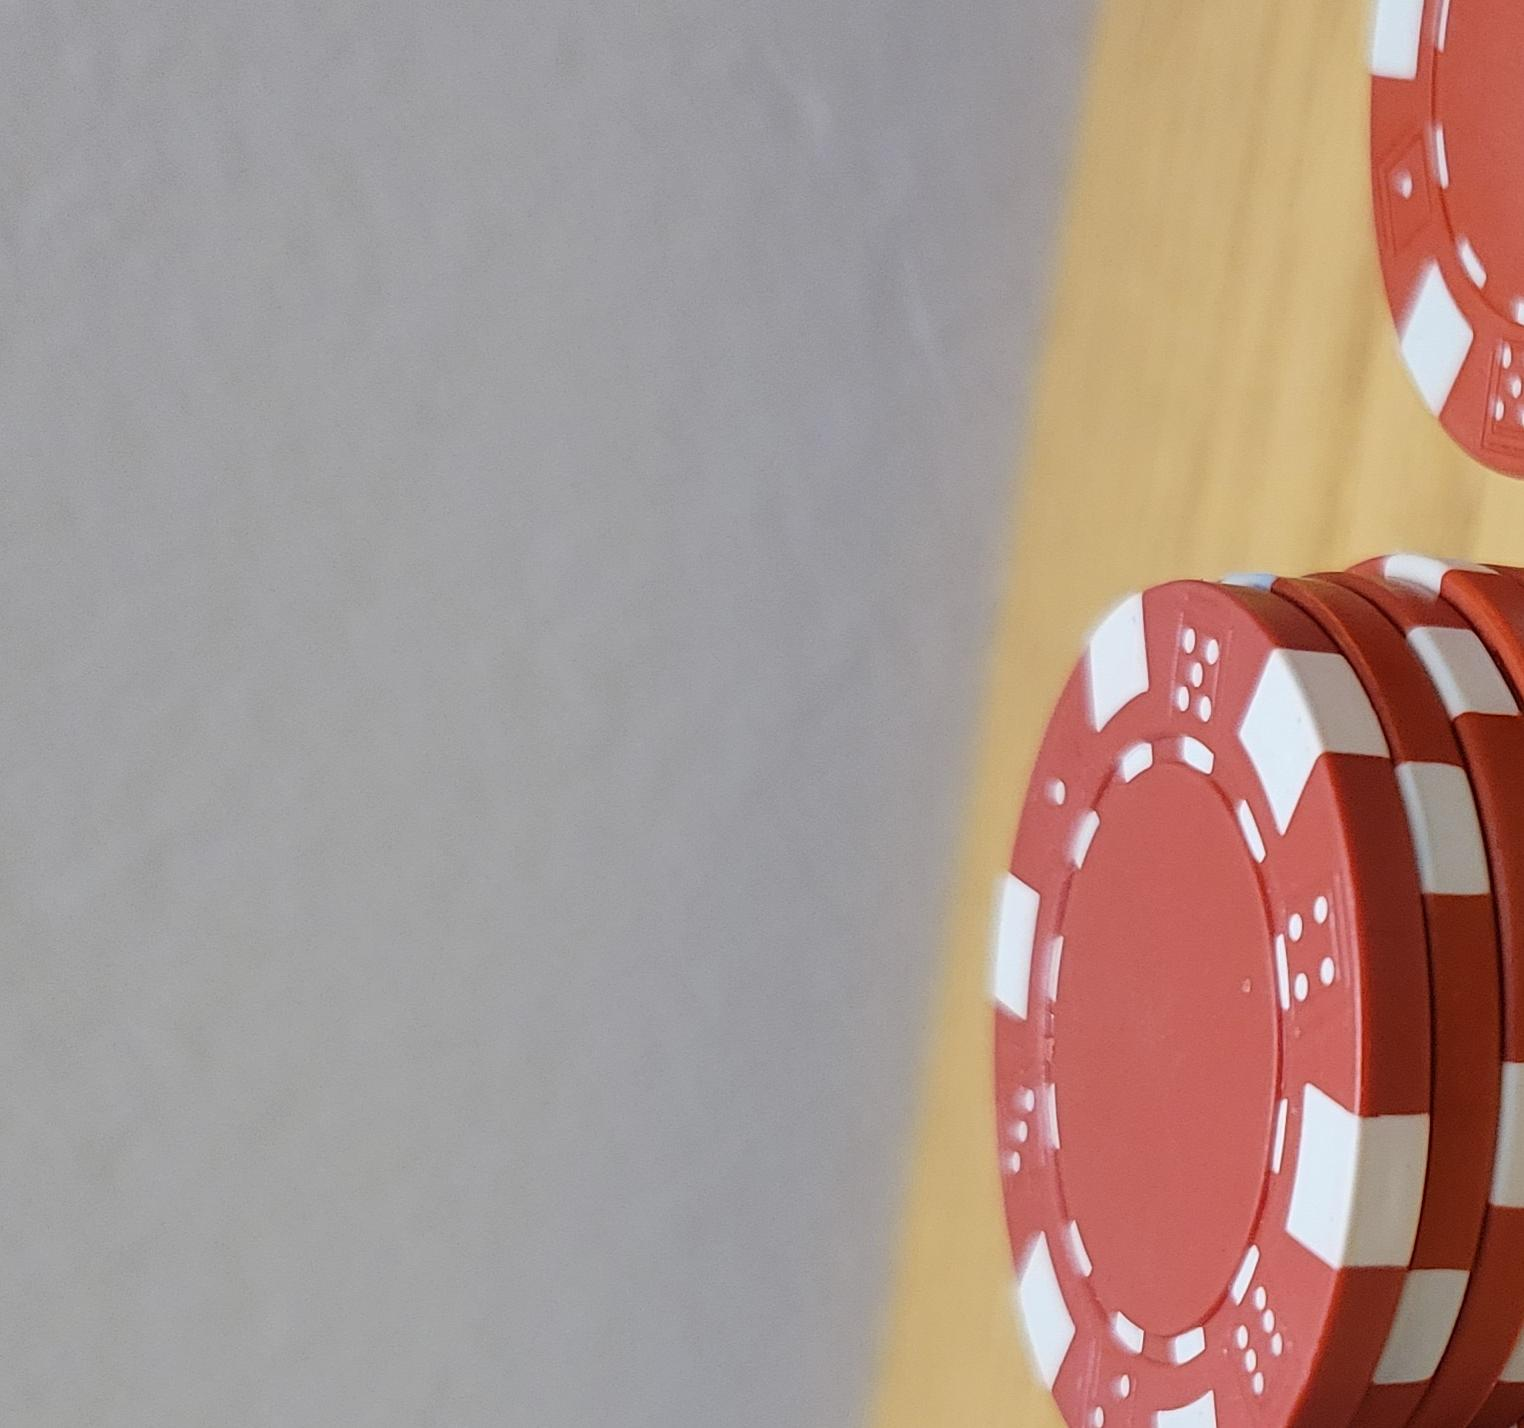Chip: (1, 150, 1115, 1428)
